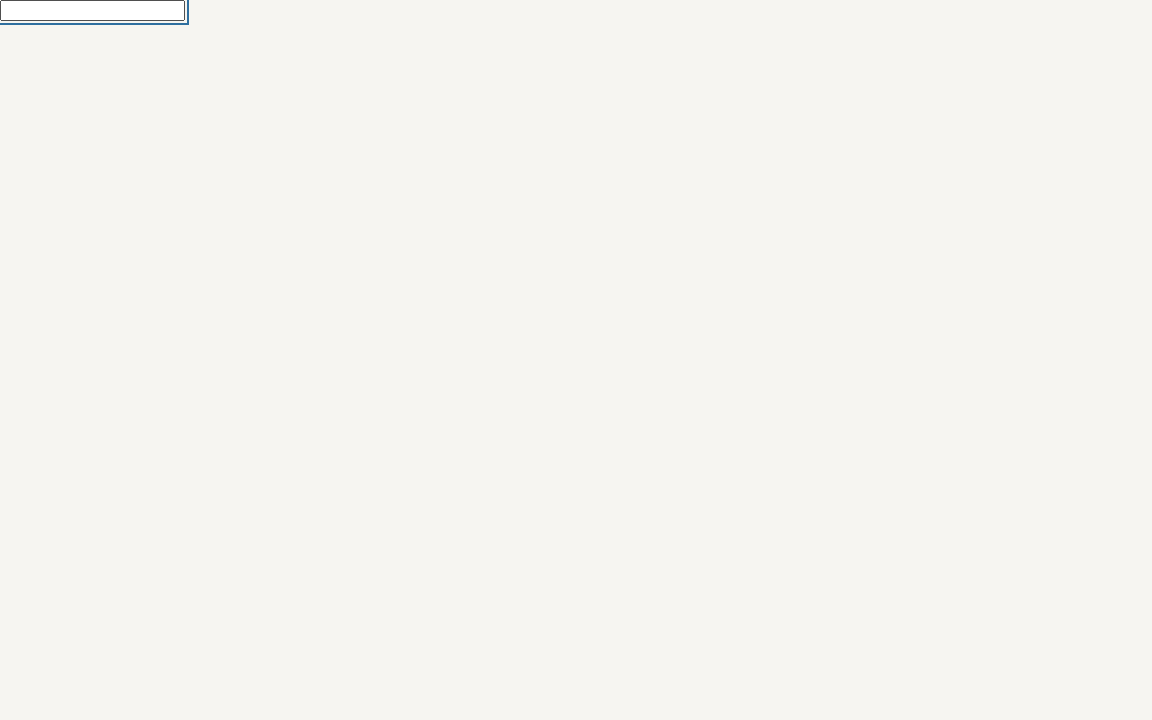
command palette › shows no matches when nothing matches
This screenshot has width=1152, height=720.
Press k in the field named "other", box [0, 0, 185, 21]
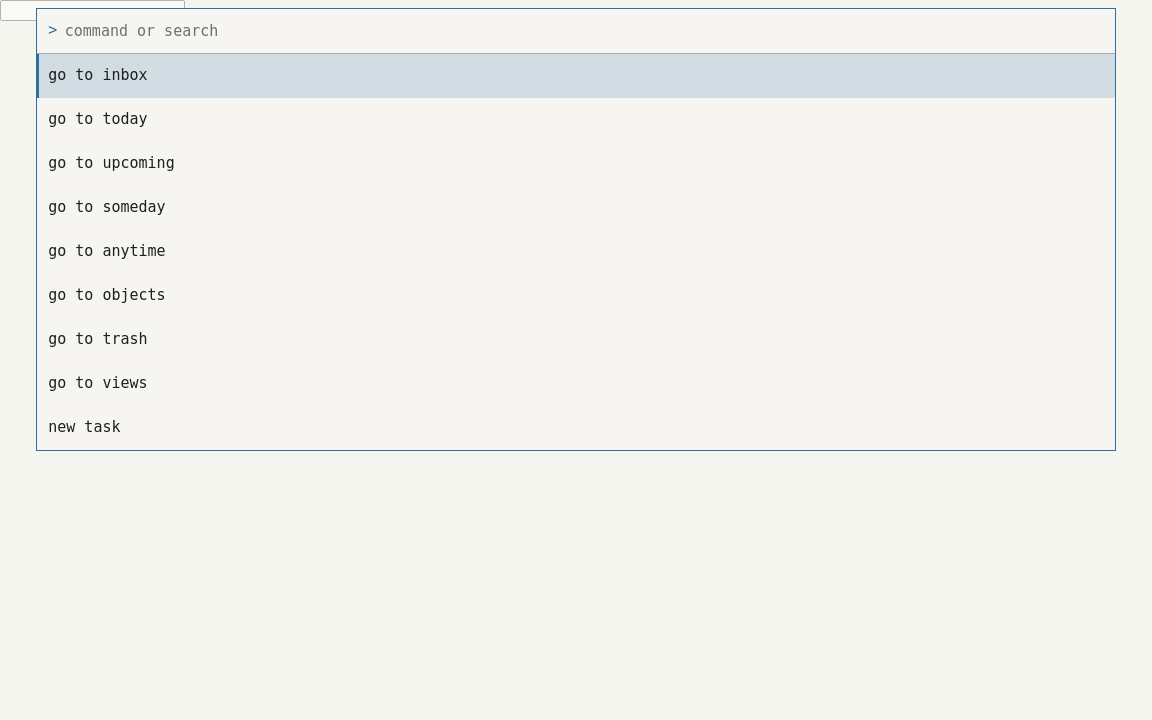
Type "zzz" into the dropdown named "palette". click: (584, 30)
box: [65, 8, 1104, 52]
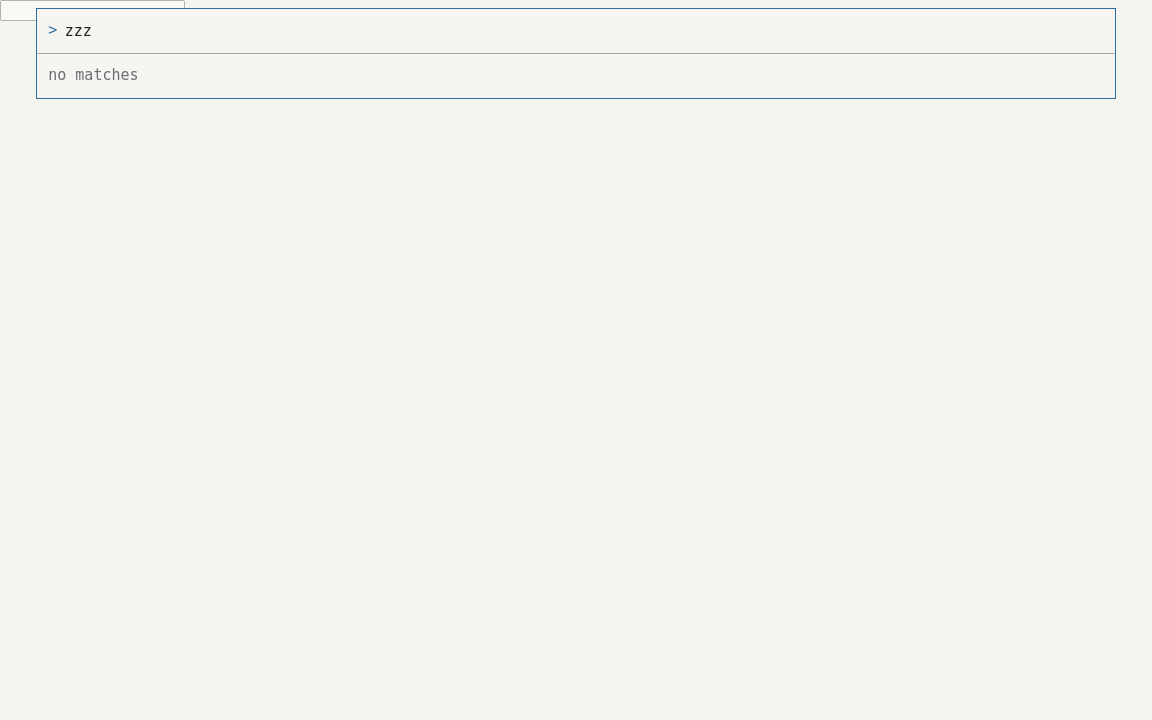
Expected: the dialog named "palette" shows "no matches", [48, 66, 139, 84]
